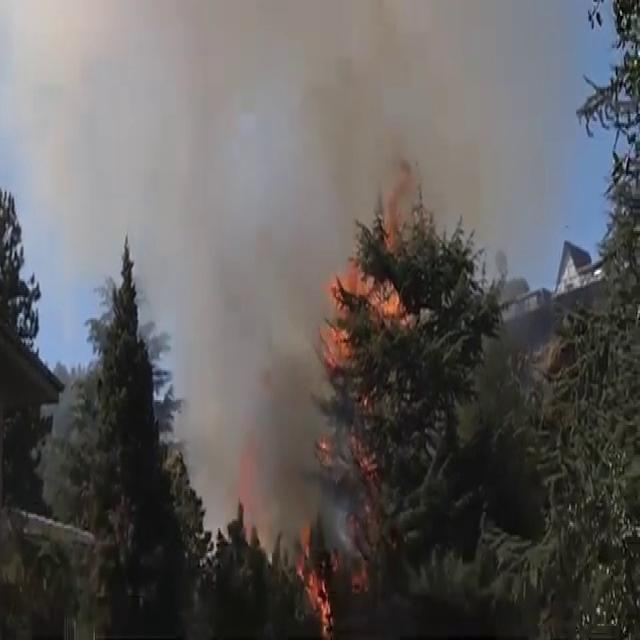Fire: (294, 520, 337, 634)
Smoke: (20, 0, 452, 532)
